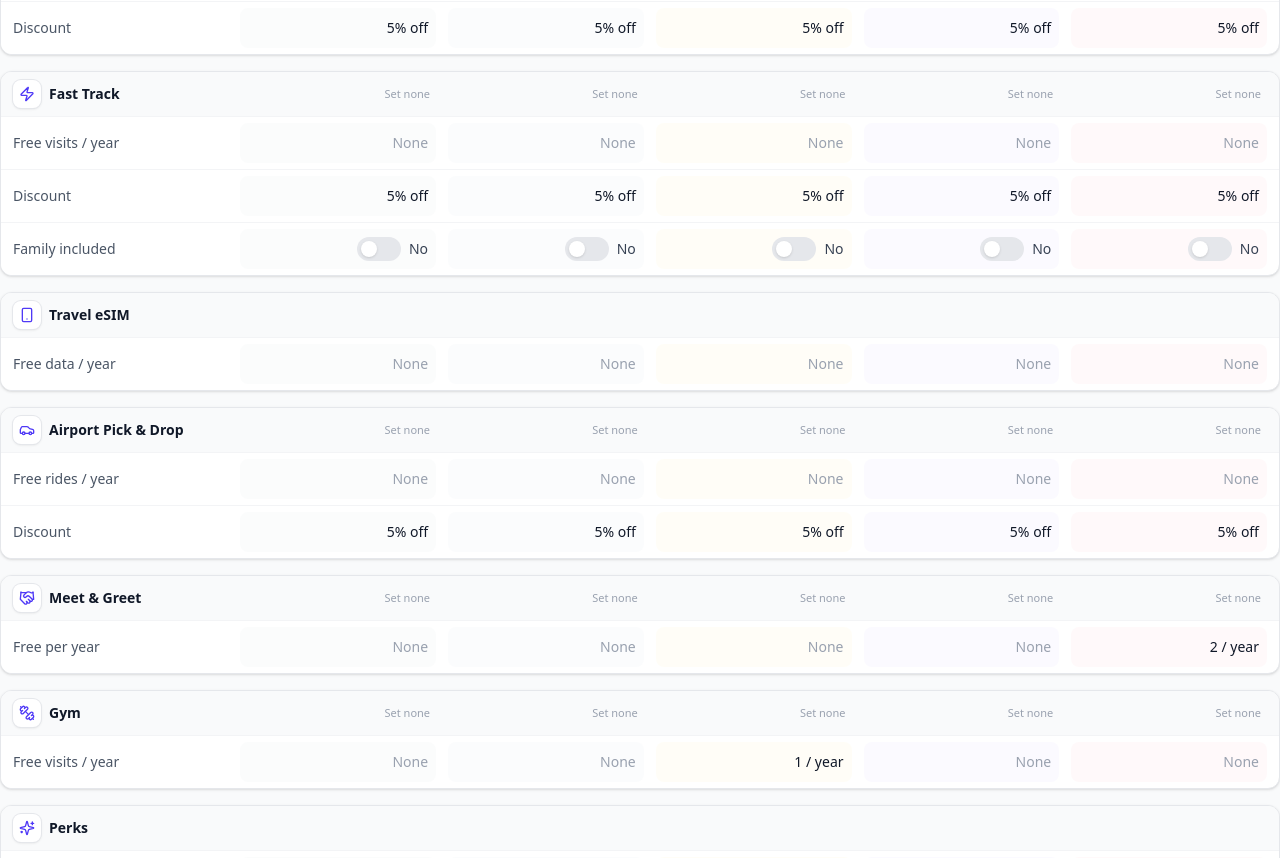
VeloxClub "All tiers" sheet › "Set none" clears a benefit for one tier
(page scrolled)
Click the button with aria-label "Set Silver Airport Pick & Drop to none" at (615, 430), box [586,420,644,440]
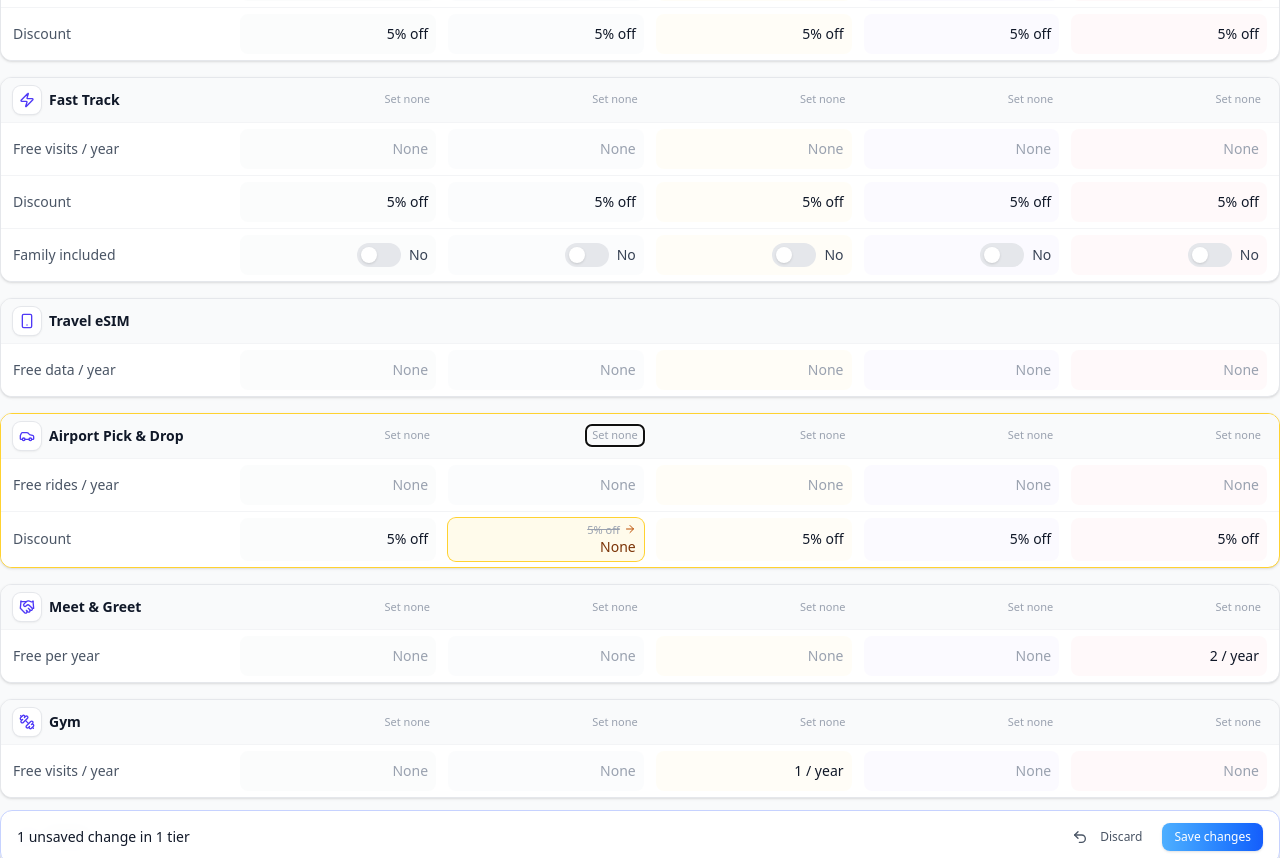
expect the text "1 unsaved change in 1 tier" is shown: met, box [17,827,190,846]
